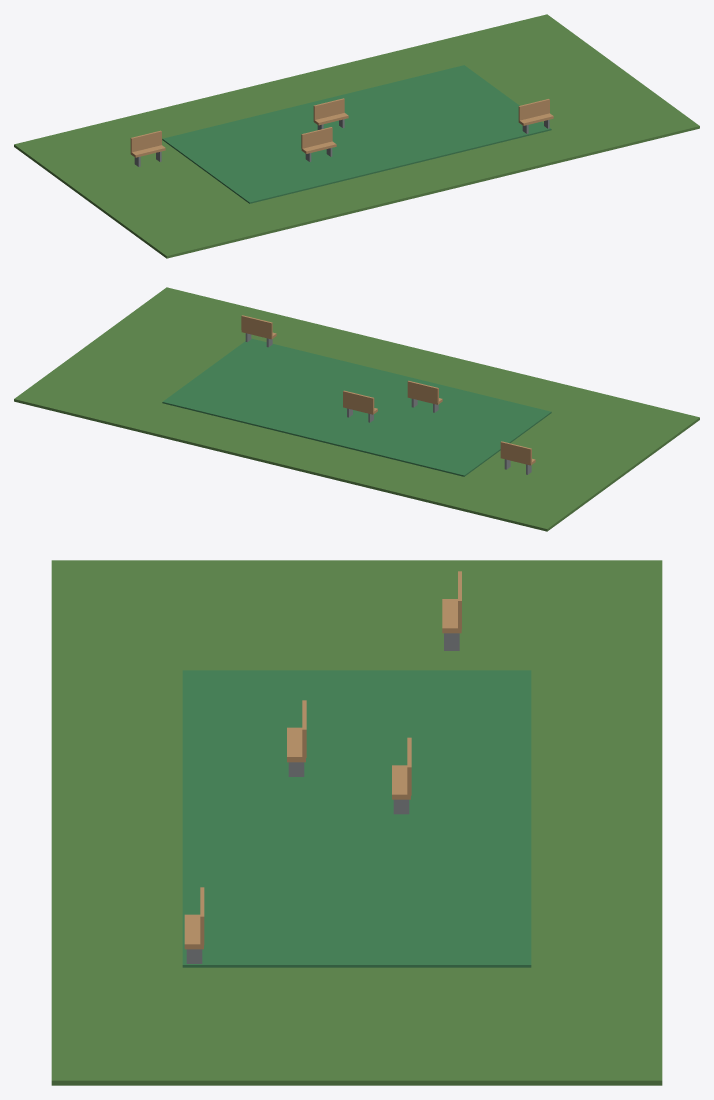
Rendered from Park_007.glb.
3 views of the same model, one above another, from view 1: azimuth 30°, elevation 25°; view 2: azimuth 150°, elevation 25°; view 3: azimuth 270°, elevation 25° (orthographic). The views are drawn at different scales.
Visible parts, largest first — view 1: Park_007; view 2: Park_007; view 3: Park_007.
Part boxes in pixels (left/top/right/bottom): Park_007: left=14, top=14, right=699, bottom=258; Park_007: left=14, top=287, right=699, bottom=531; Park_007: left=51, top=560, right=662, bottom=1085.
Size of the model in its own units: 35.33 by 1.86 by 17.52.
